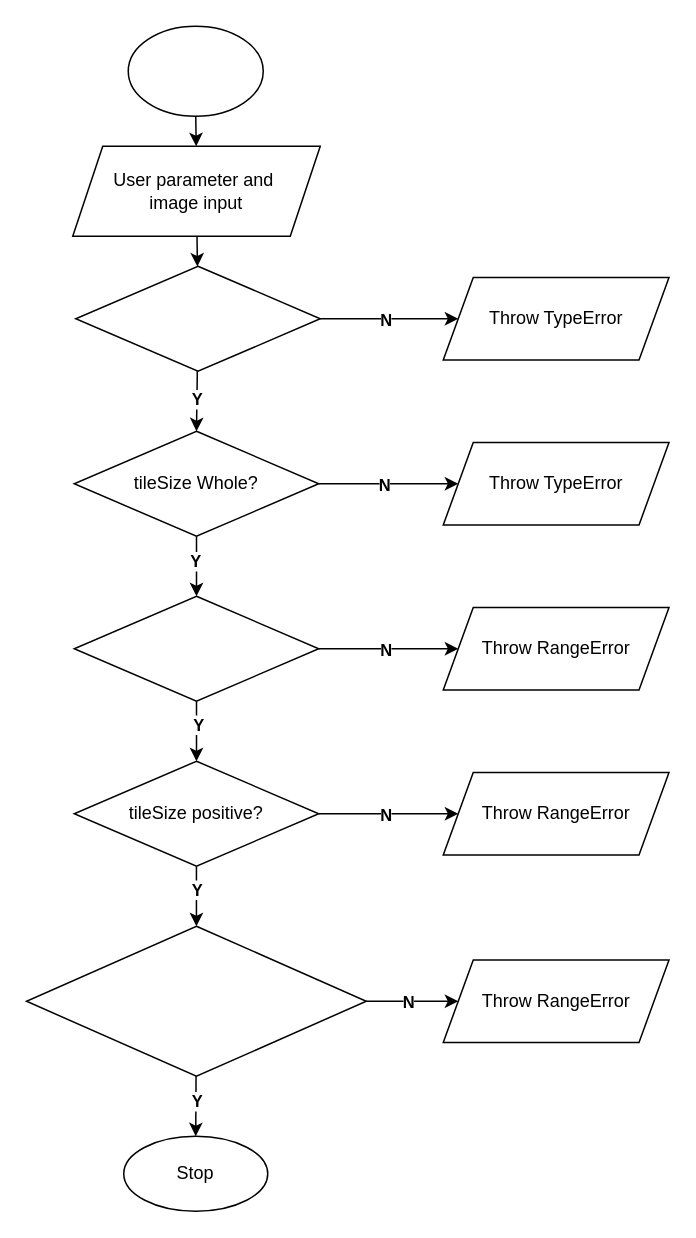
The diagram is 696 pixels wide and 1238 high, and some of its shapes have lost their labels. The centre of each missing label's shape, as x and y in pixels:
"gridSize positive?" belongs at [196,648].
"gridSize whole?" belongs at [197,318].
"Start" belongs at [195,70].
"whole number of tiles along the width and height of the image?" belongs at [195,1000].
